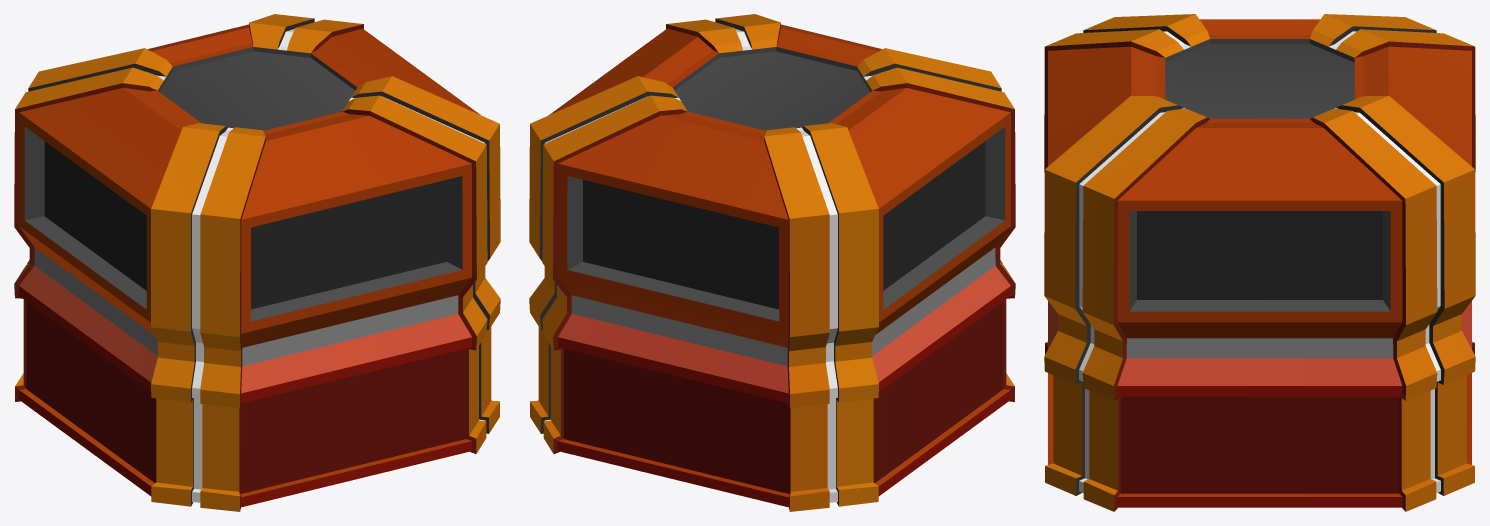
The model's file is Future Small Crate Orange.fbx.
3 views of the same model, side by side, from view 1: azimuth 30°, elevation 25°; view 2: azimuth 150°, elevation 25°; view 3: azimuth 270°, elevation 25° (orthographic). The views are drawn at different scales.
Visible parts, largest first — view 1: Future Small Crate Orange; view 2: Future Small Crate Orange; view 3: Future Small Crate Orange.
Part boxes in pixels (x1,y1,x2,y2): Future Small Crate Orange: (14, 14, 500, 511); Future Small Crate Orange: (529, 14, 1015, 511); Future Small Crate Orange: (1044, 14, 1475, 511).
Bounding box in the file's own units: 310 × 344 × 344.
Materials: 1 (1 with a texture image).
